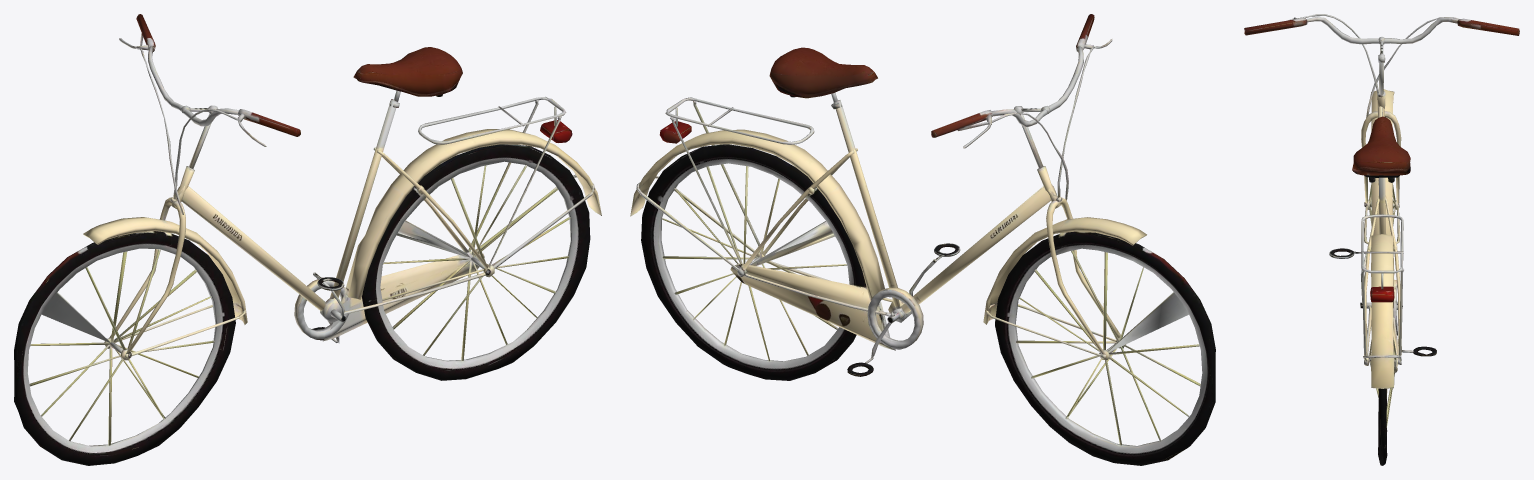
Rendered from vintage-bike.glb.
The picture shows the model from 3 angles, left to right: view 1: azimuth 30°, elevation 25°; view 2: azimuth 150°, elevation 25°; view 3: azimuth 270°, elevation 25°; orthographic projection. The views are drawn at different scales.
Size of the model in its own units: 1 by 0.6086 by 0.4764.
Materials: 1 (1 with a texture image).
